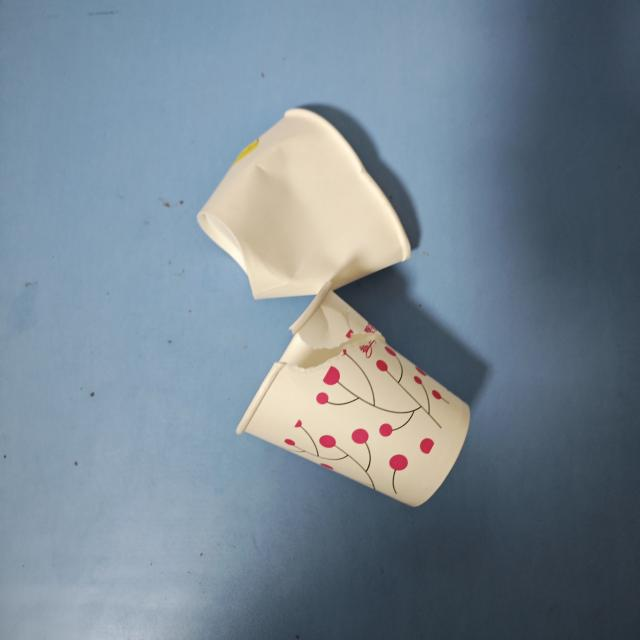-Recyclables - paper cup-: (236, 281, 472, 508), (194, 104, 411, 302)
